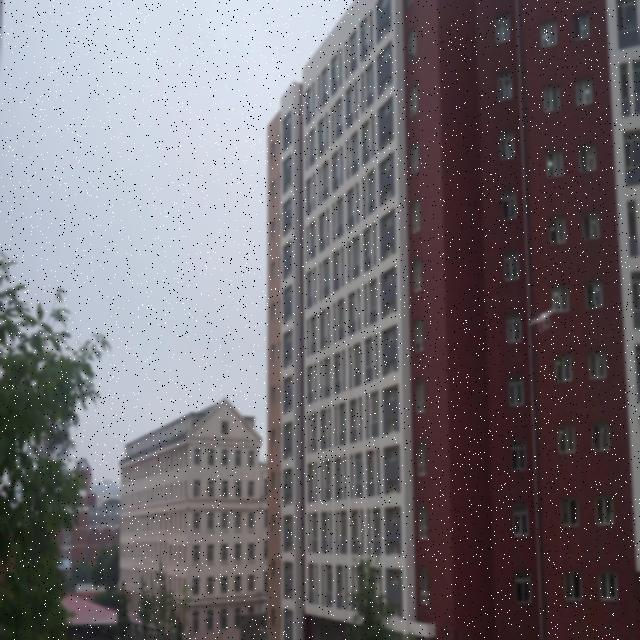UAV: (528, 308, 557, 332)
